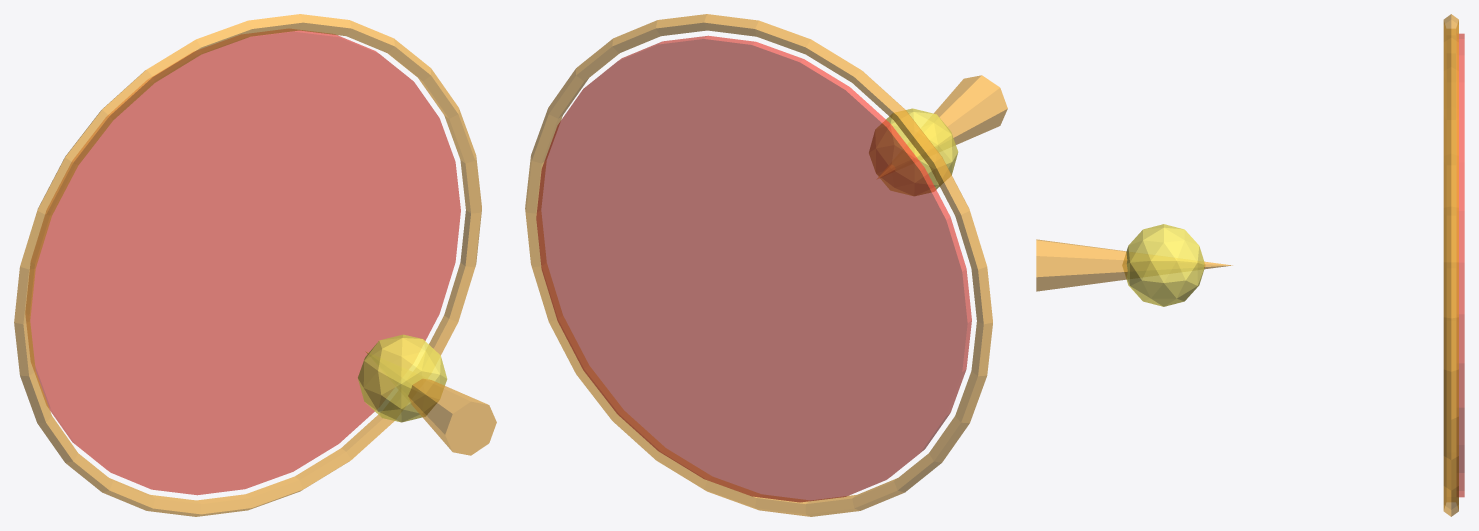
File: vfx_cosmic_meteor_warning.glb
3 renders of one model, left to right at view 1: azimuth 30°, elevation 25°; view 2: azimuth 150°, elevation 25°; view 3: azimuth 270°, elevation 25°, orthographic. The views are drawn at different scales.
Parts seen in each view (by area): view 1: disc, ring, marker, tail; view 2: disc, ring, marker, tail; view 3: ring, marker, tail, disc.
Boxes of the visible parts, x1,y1,x2,y2 form: disc: (26, 29, 460, 495); ring: (14, 14, 481, 516); marker: (358, 334, 447, 422); tail: (365, 351, 496, 455); disc: (536, 35, 971, 502); ring: (525, 14, 992, 516); marker: (869, 108, 958, 195); tail: (877, 75, 1007, 178); ring: (1443, 14, 1458, 516); marker: (1122, 224, 1204, 306); tail: (1036, 239, 1232, 291); disc: (1457, 33, 1464, 497).
Size of the model in its own units: 2.17 by 2.17 by 1.85.
